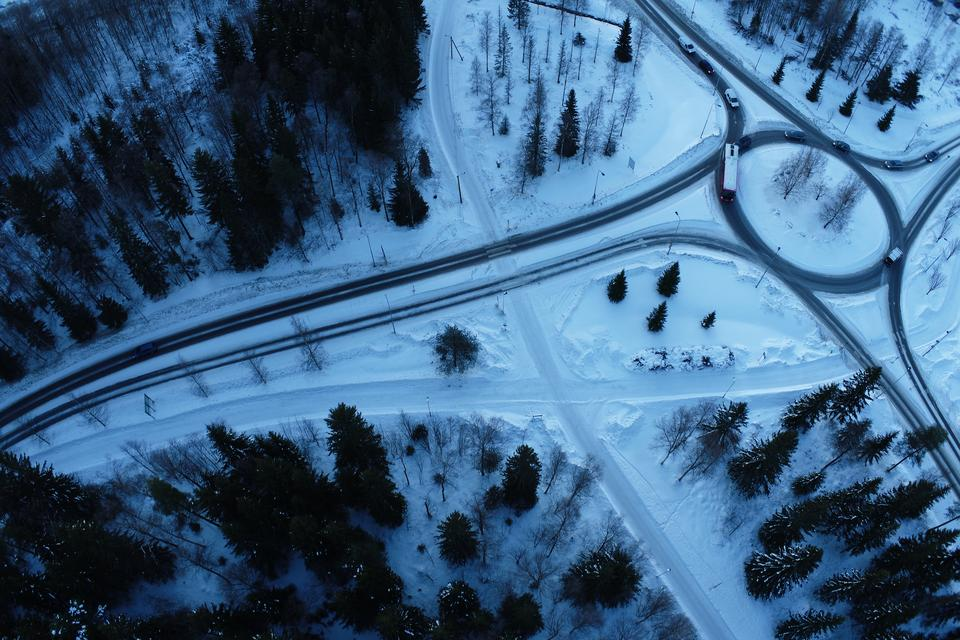intersection: (815, 333, 933, 391), (478, 215, 529, 309)
roundabout: (686, 100, 934, 320)
